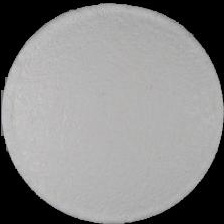57664-506: (0, 0, 224, 224)
